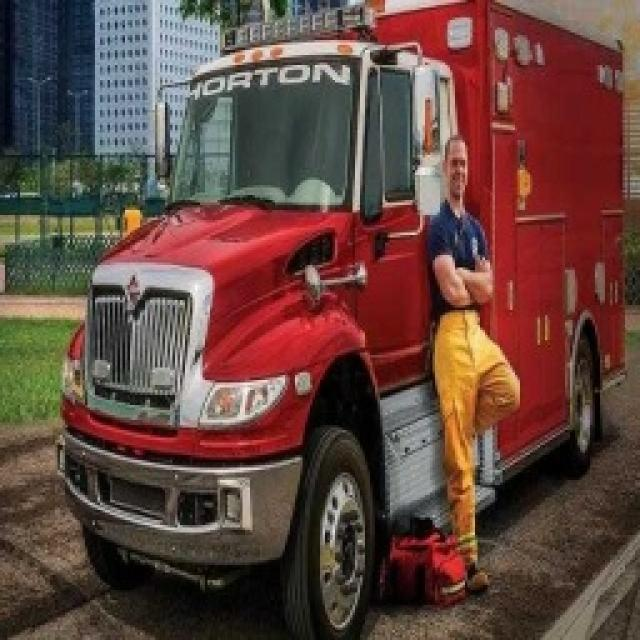ambulance: (55, 15, 630, 640), (542, 532, 640, 640)
